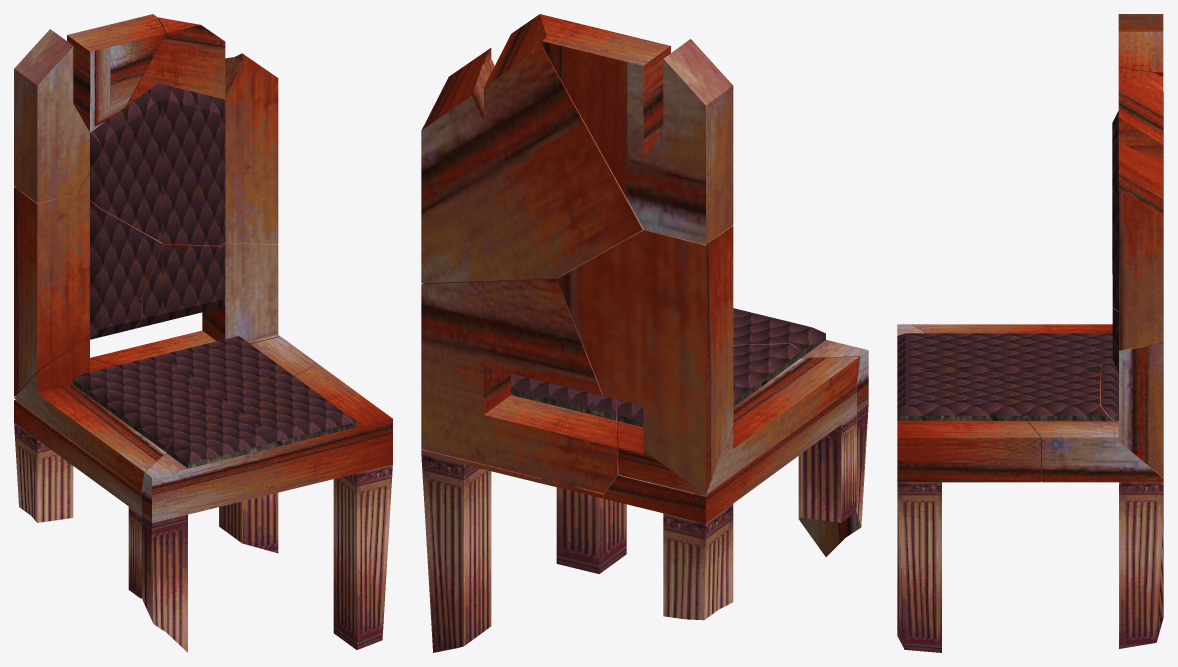
File: chair_des.fbx
The picture shows the model from 3 angles, left to right: view 1: azimuth 30°, elevation 25°; view 2: azimuth 150°, elevation 25°; view 3: azimuth 270°, elevation 25°; orthographic projection. The views are drawn at different scales.
Parts seen in each view (by area): view 1: chair_cell.002, chair_cell.006, chair_cell.009, chair_cell.008, chair_cell.003, chair_cell, chair_cell.001, chair_cell.005; view 2: chair_cell.006, chair_cell, chair_cell.009, chair_cell.008, chair_cell.001, chair_cell.003, chair_cell.005, chair_cell.002; view 3: chair_cell.002, chair_cell.005, chair_cell.006, chair_cell, chair_cell.003, chair_cell.008.
Boxes of the visible parts, box(x1,y1,x2,y2) form: chair_cell.002: box(142, 364, 392, 652); chair_cell.006: box(78, 17, 278, 245); chair_cell.009: box(14, 187, 162, 396); chair_cell.008: box(14, 14, 165, 203); chair_cell.003: box(14, 298, 210, 492); chair_cell: box(90, 242, 279, 365); chair_cell.001: box(14, 399, 142, 598); chair_cell.005: box(155, 336, 317, 553); chair_cell.006: box(421, 14, 644, 283); chair_cell: box(421, 276, 617, 493); chair_cell.009: box(557, 225, 733, 493); chair_cell.008: box(542, 24, 733, 244); chair_cell.001: box(604, 386, 856, 620); chair_cell.003: box(617, 343, 859, 494); chair_cell.005: box(421, 399, 617, 652); chair_cell.002: box(556, 308, 868, 573); chair_cell.002: box(897, 324, 1040, 652); chair_cell.005: box(991, 364, 1163, 648); chair_cell.006: box(1112, 68, 1163, 350); chair_cell: box(1101, 308, 1163, 477); chair_cell.003: box(912, 324, 1113, 364); chair_cell.008: box(1118, 14, 1163, 139).
Size of the model in its own units: 64.97 by 145 by 64.36.
